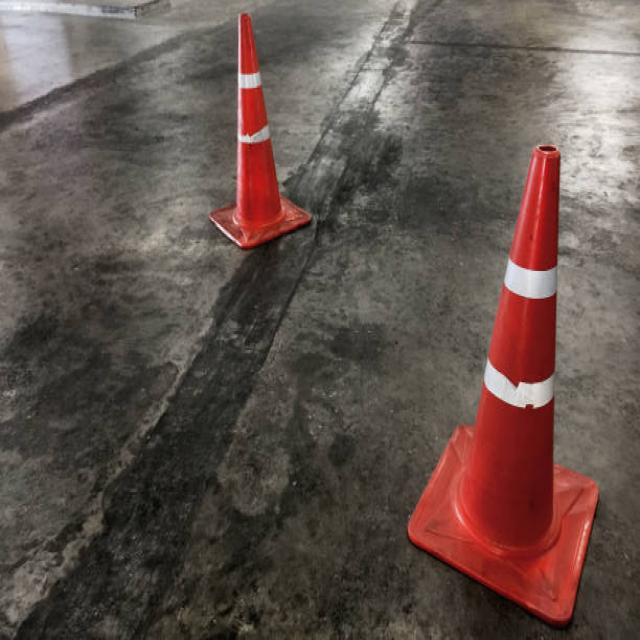Traffic Cone: (402, 121, 606, 640), (188, 0, 324, 258)
